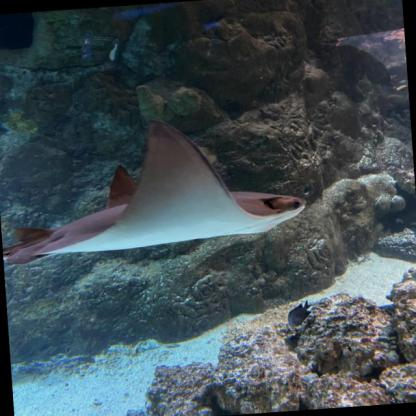fish: (288, 300, 312, 325)
stingray: (0, 108, 311, 266)
